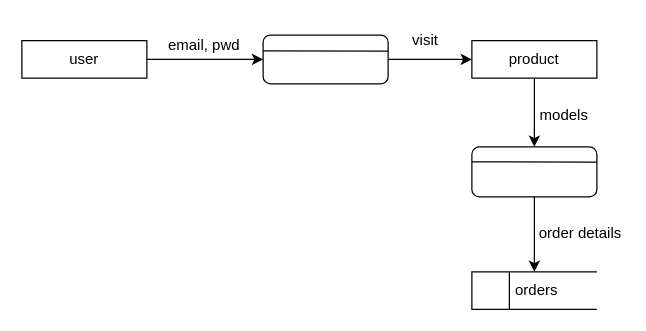
The diagram is 646 pixels wide and 331 high, and some of its shapes have lost their labels. Each missing label, with the centre of its shape:
"add to cart/order" goes at [534,171].
"user login" goes at [325,59].
